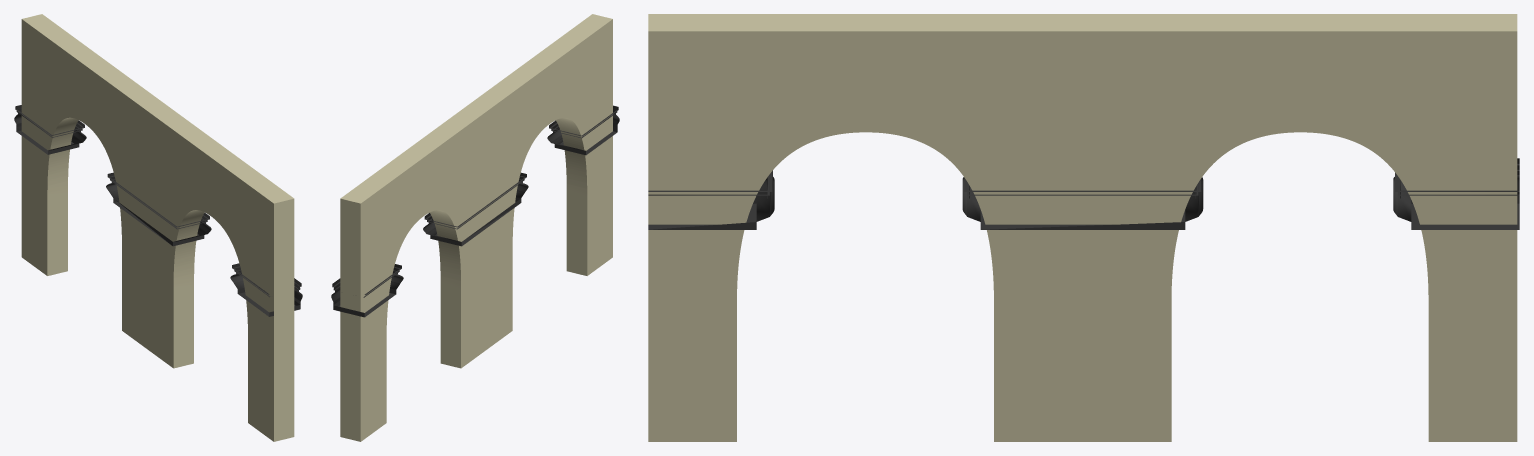
The model's file is arka2.FBX.
3 renders of one model, left to right at view 1: azimuth 30°, elevation 25°; view 2: azimuth 150°, elevation 25°; view 3: azimuth 270°, elevation 25°, orthographic. The views are drawn at different scales.
Visible parts, largest first — view 1: arka2; view 2: arka2; view 3: arka2.
Boxes of the visible parts, x1,y1,x2,y2 form: arka2: (14, 14, 302, 441); arka2: (331, 14, 619, 441); arka2: (648, 14, 1519, 441).
Size of what is drawn, in the model's own units: 132 by 1616 by 840.
